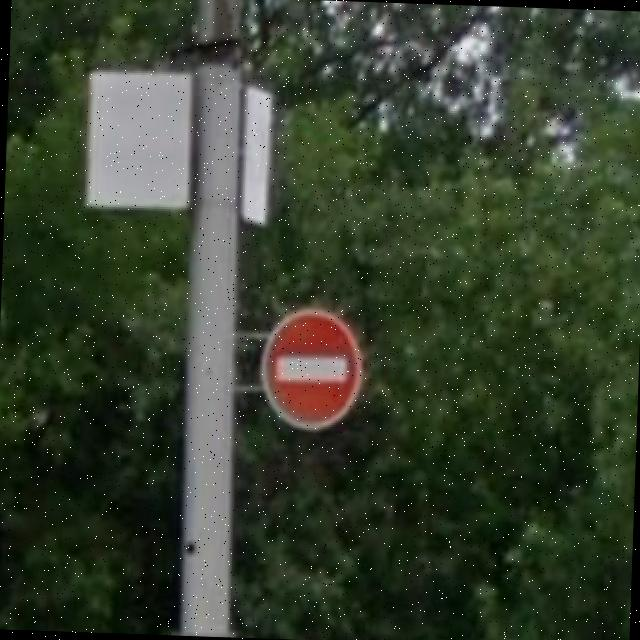Zakaz wjazdu: (253, 299, 369, 438)
